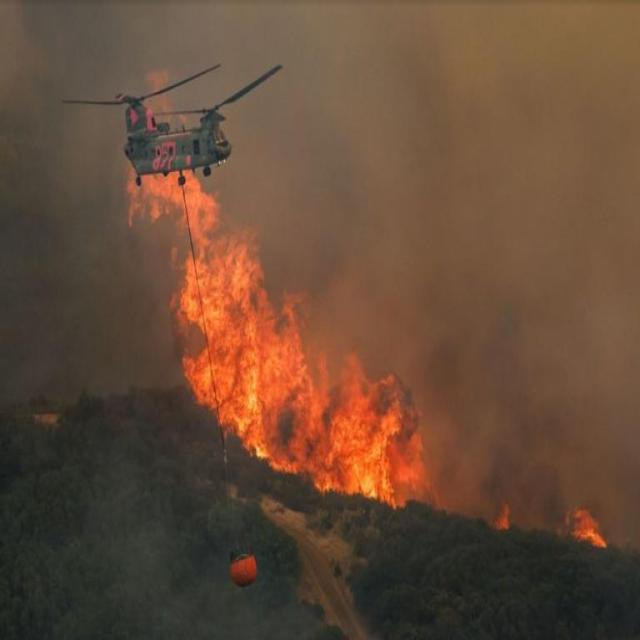Fire: (122, 164, 439, 517), (563, 505, 610, 554), (494, 500, 514, 532)
